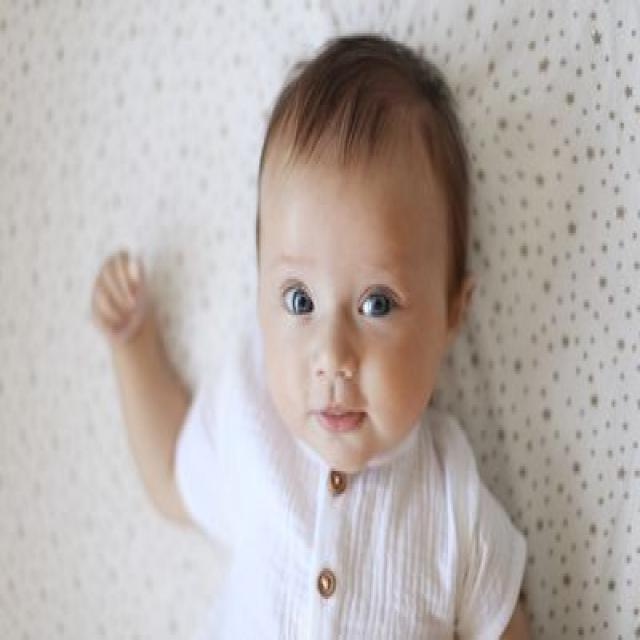non-dog: (86, 33, 548, 640)
